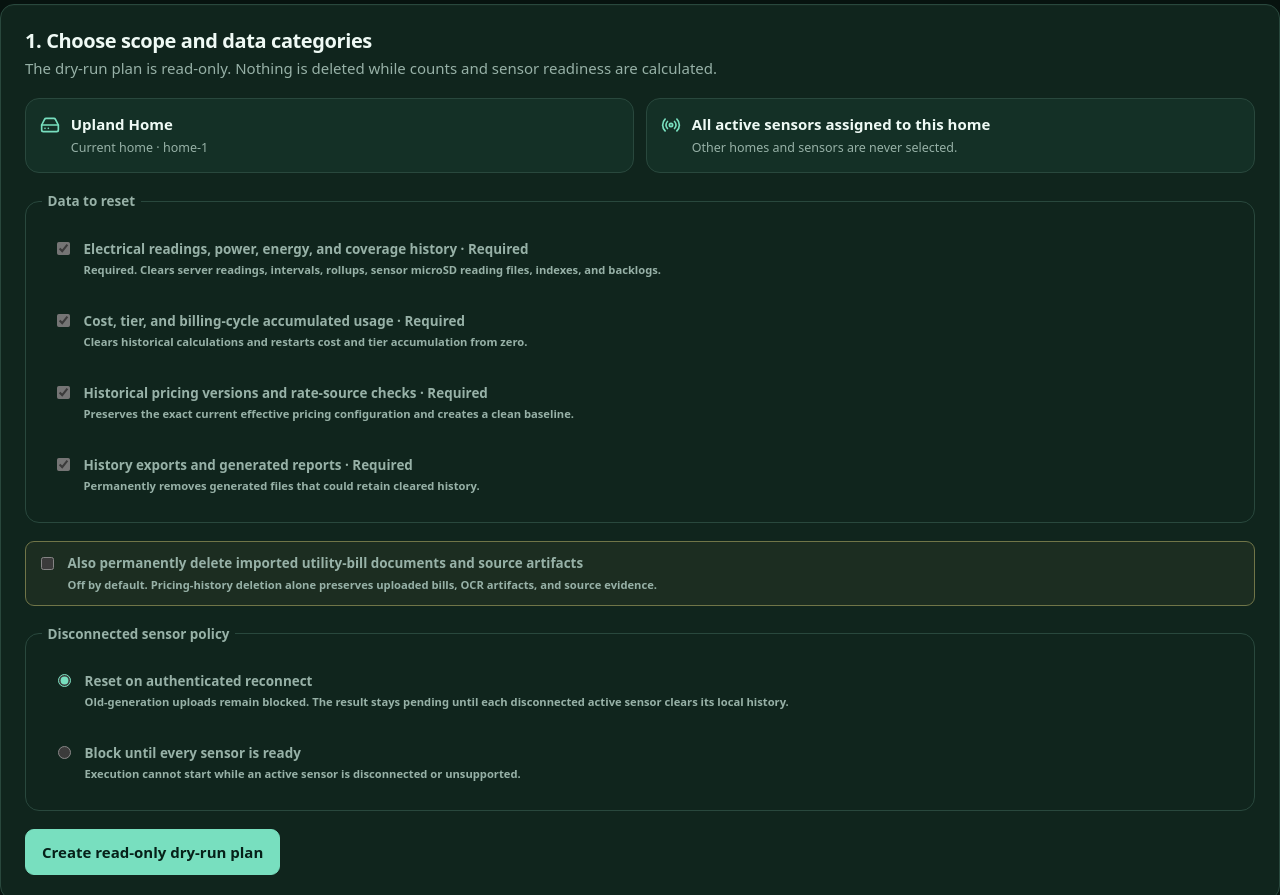
Test: coordinated data-only reset workflow › explains why a former-site sensor with device-wide backlog blocks planning
(page scrolled)
Click the button "Create read-only dry-run plan". click: (153, 852)
box: [25,830,280,875]
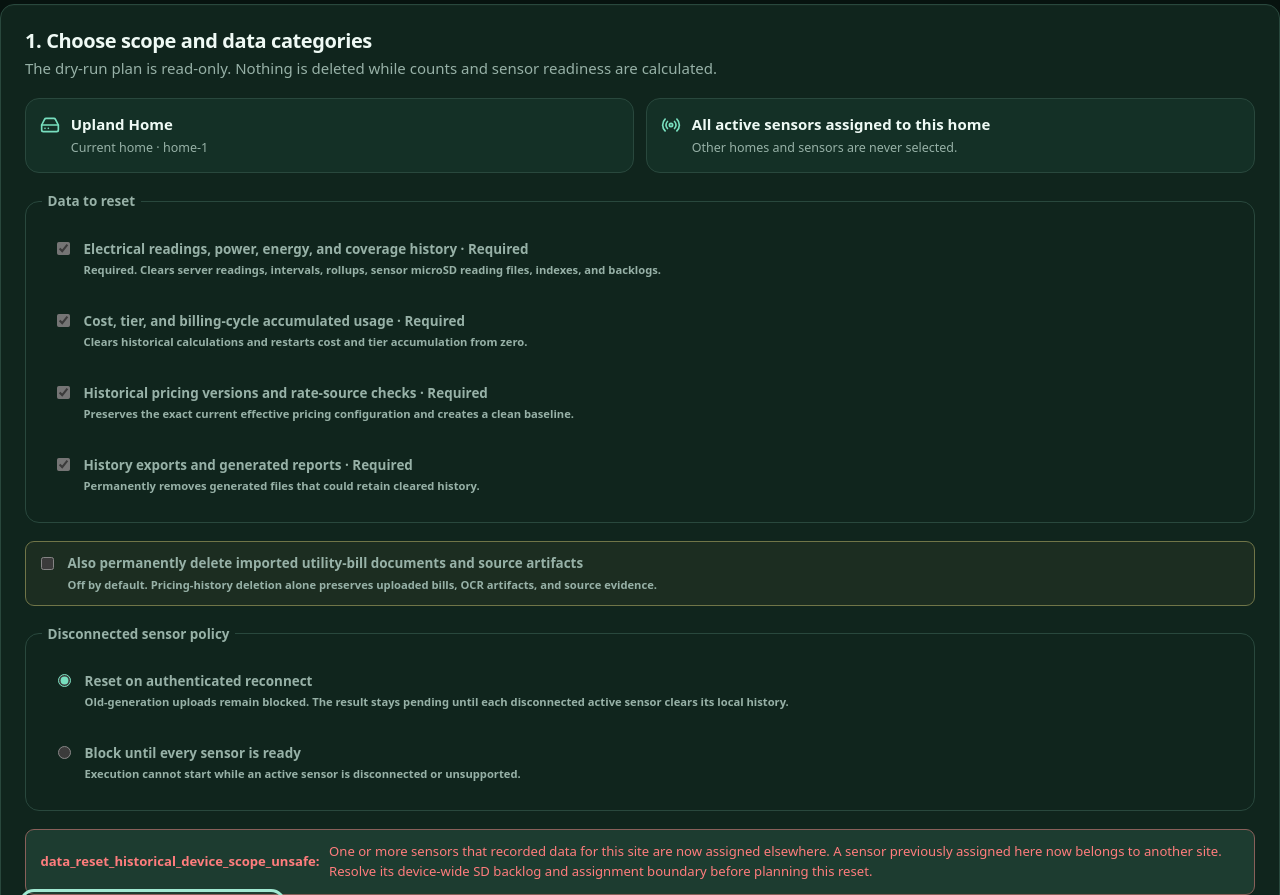
Expected: the text "Resolve its device-wide SD backlog" is shown, [329,842,1222,880]
Expected: the text "data_reset_historical_device_scope_unsafe:" is shown, [40,852,320,872]
